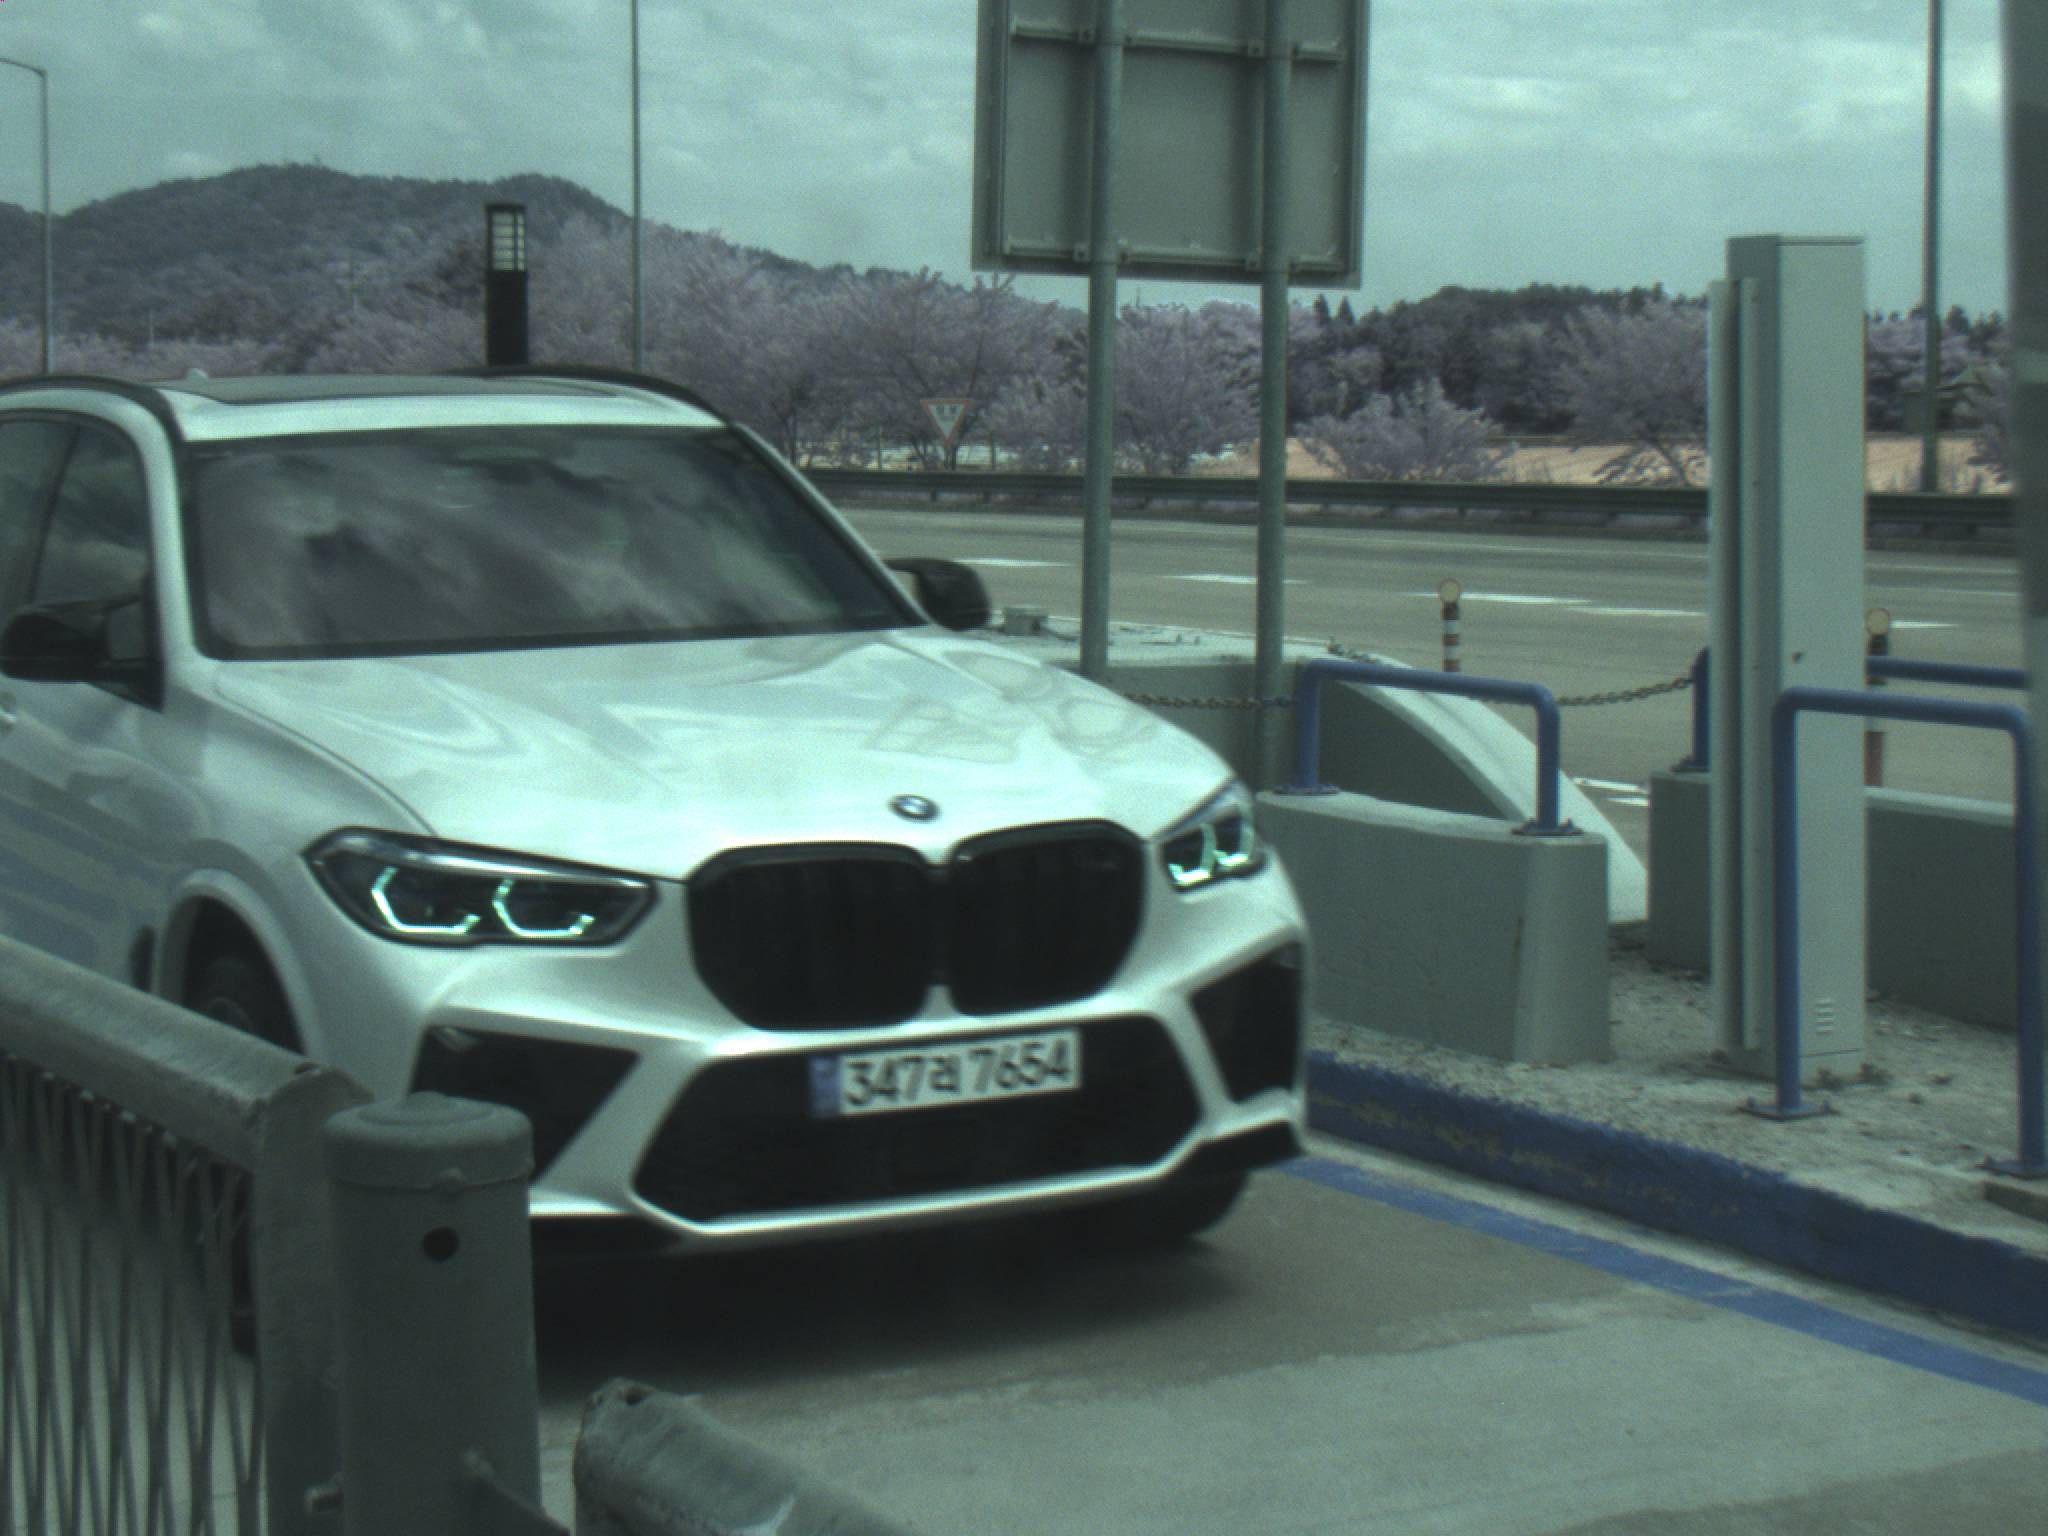car: (1, 353, 1316, 1379)
plate: (795, 1021, 1087, 1130)
